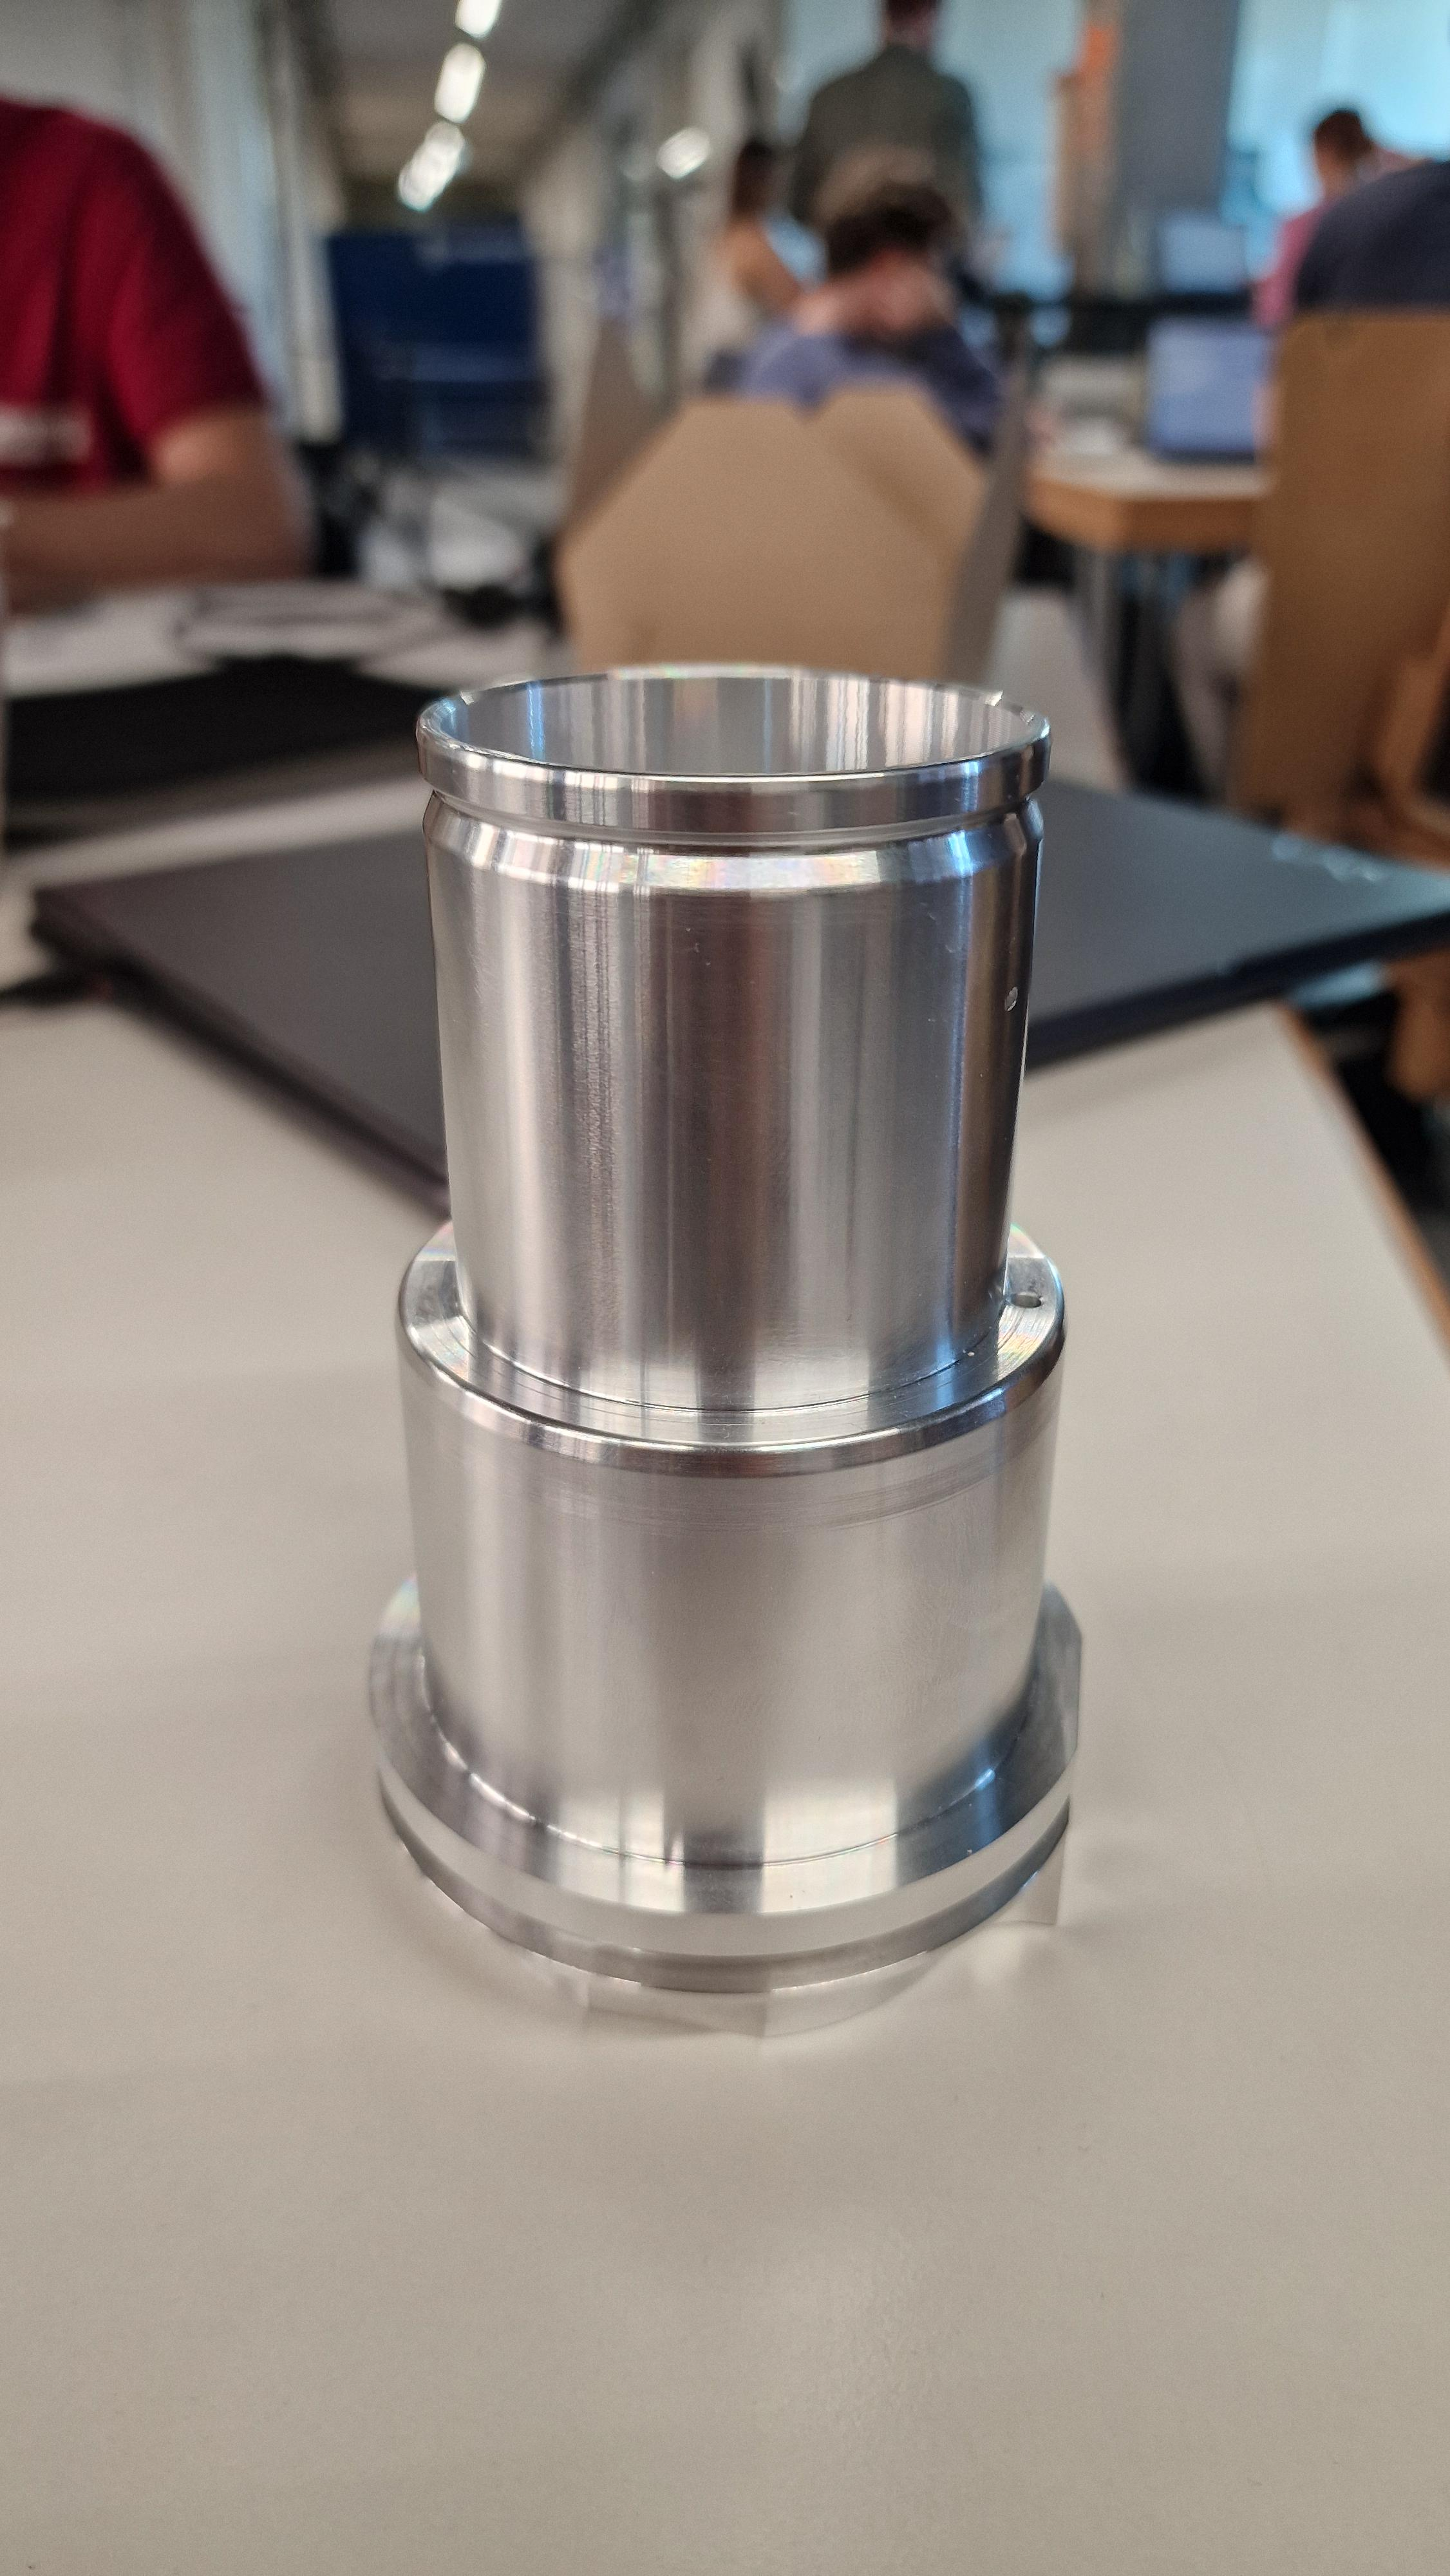damage: (999, 987, 1024, 1012)
objects: (347, 663, 1093, 2056)
